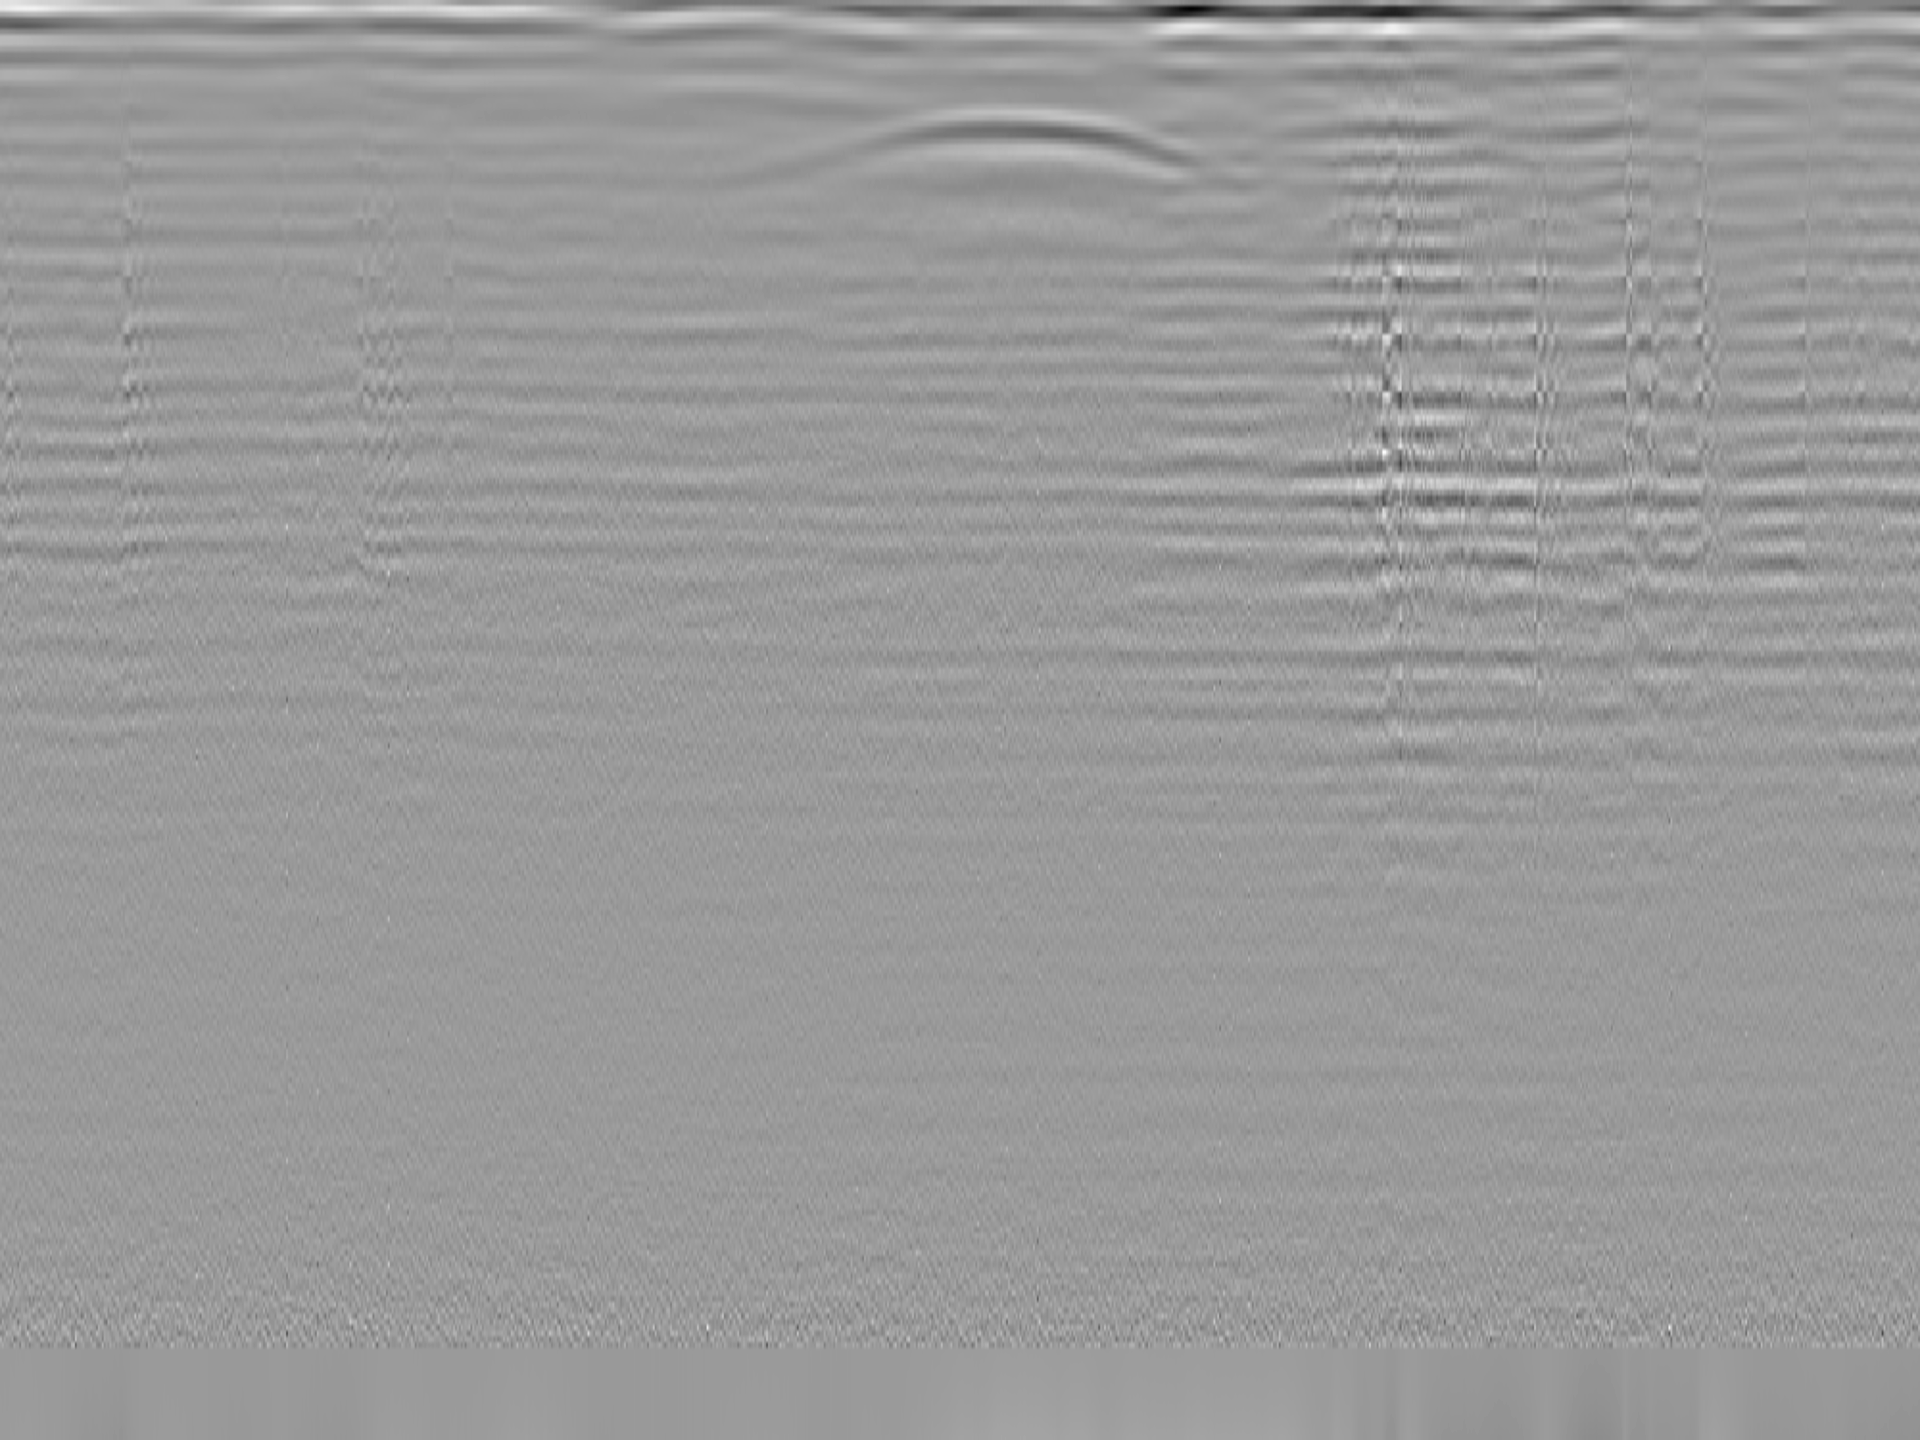Tunnel: (730, 109, 1225, 191)
